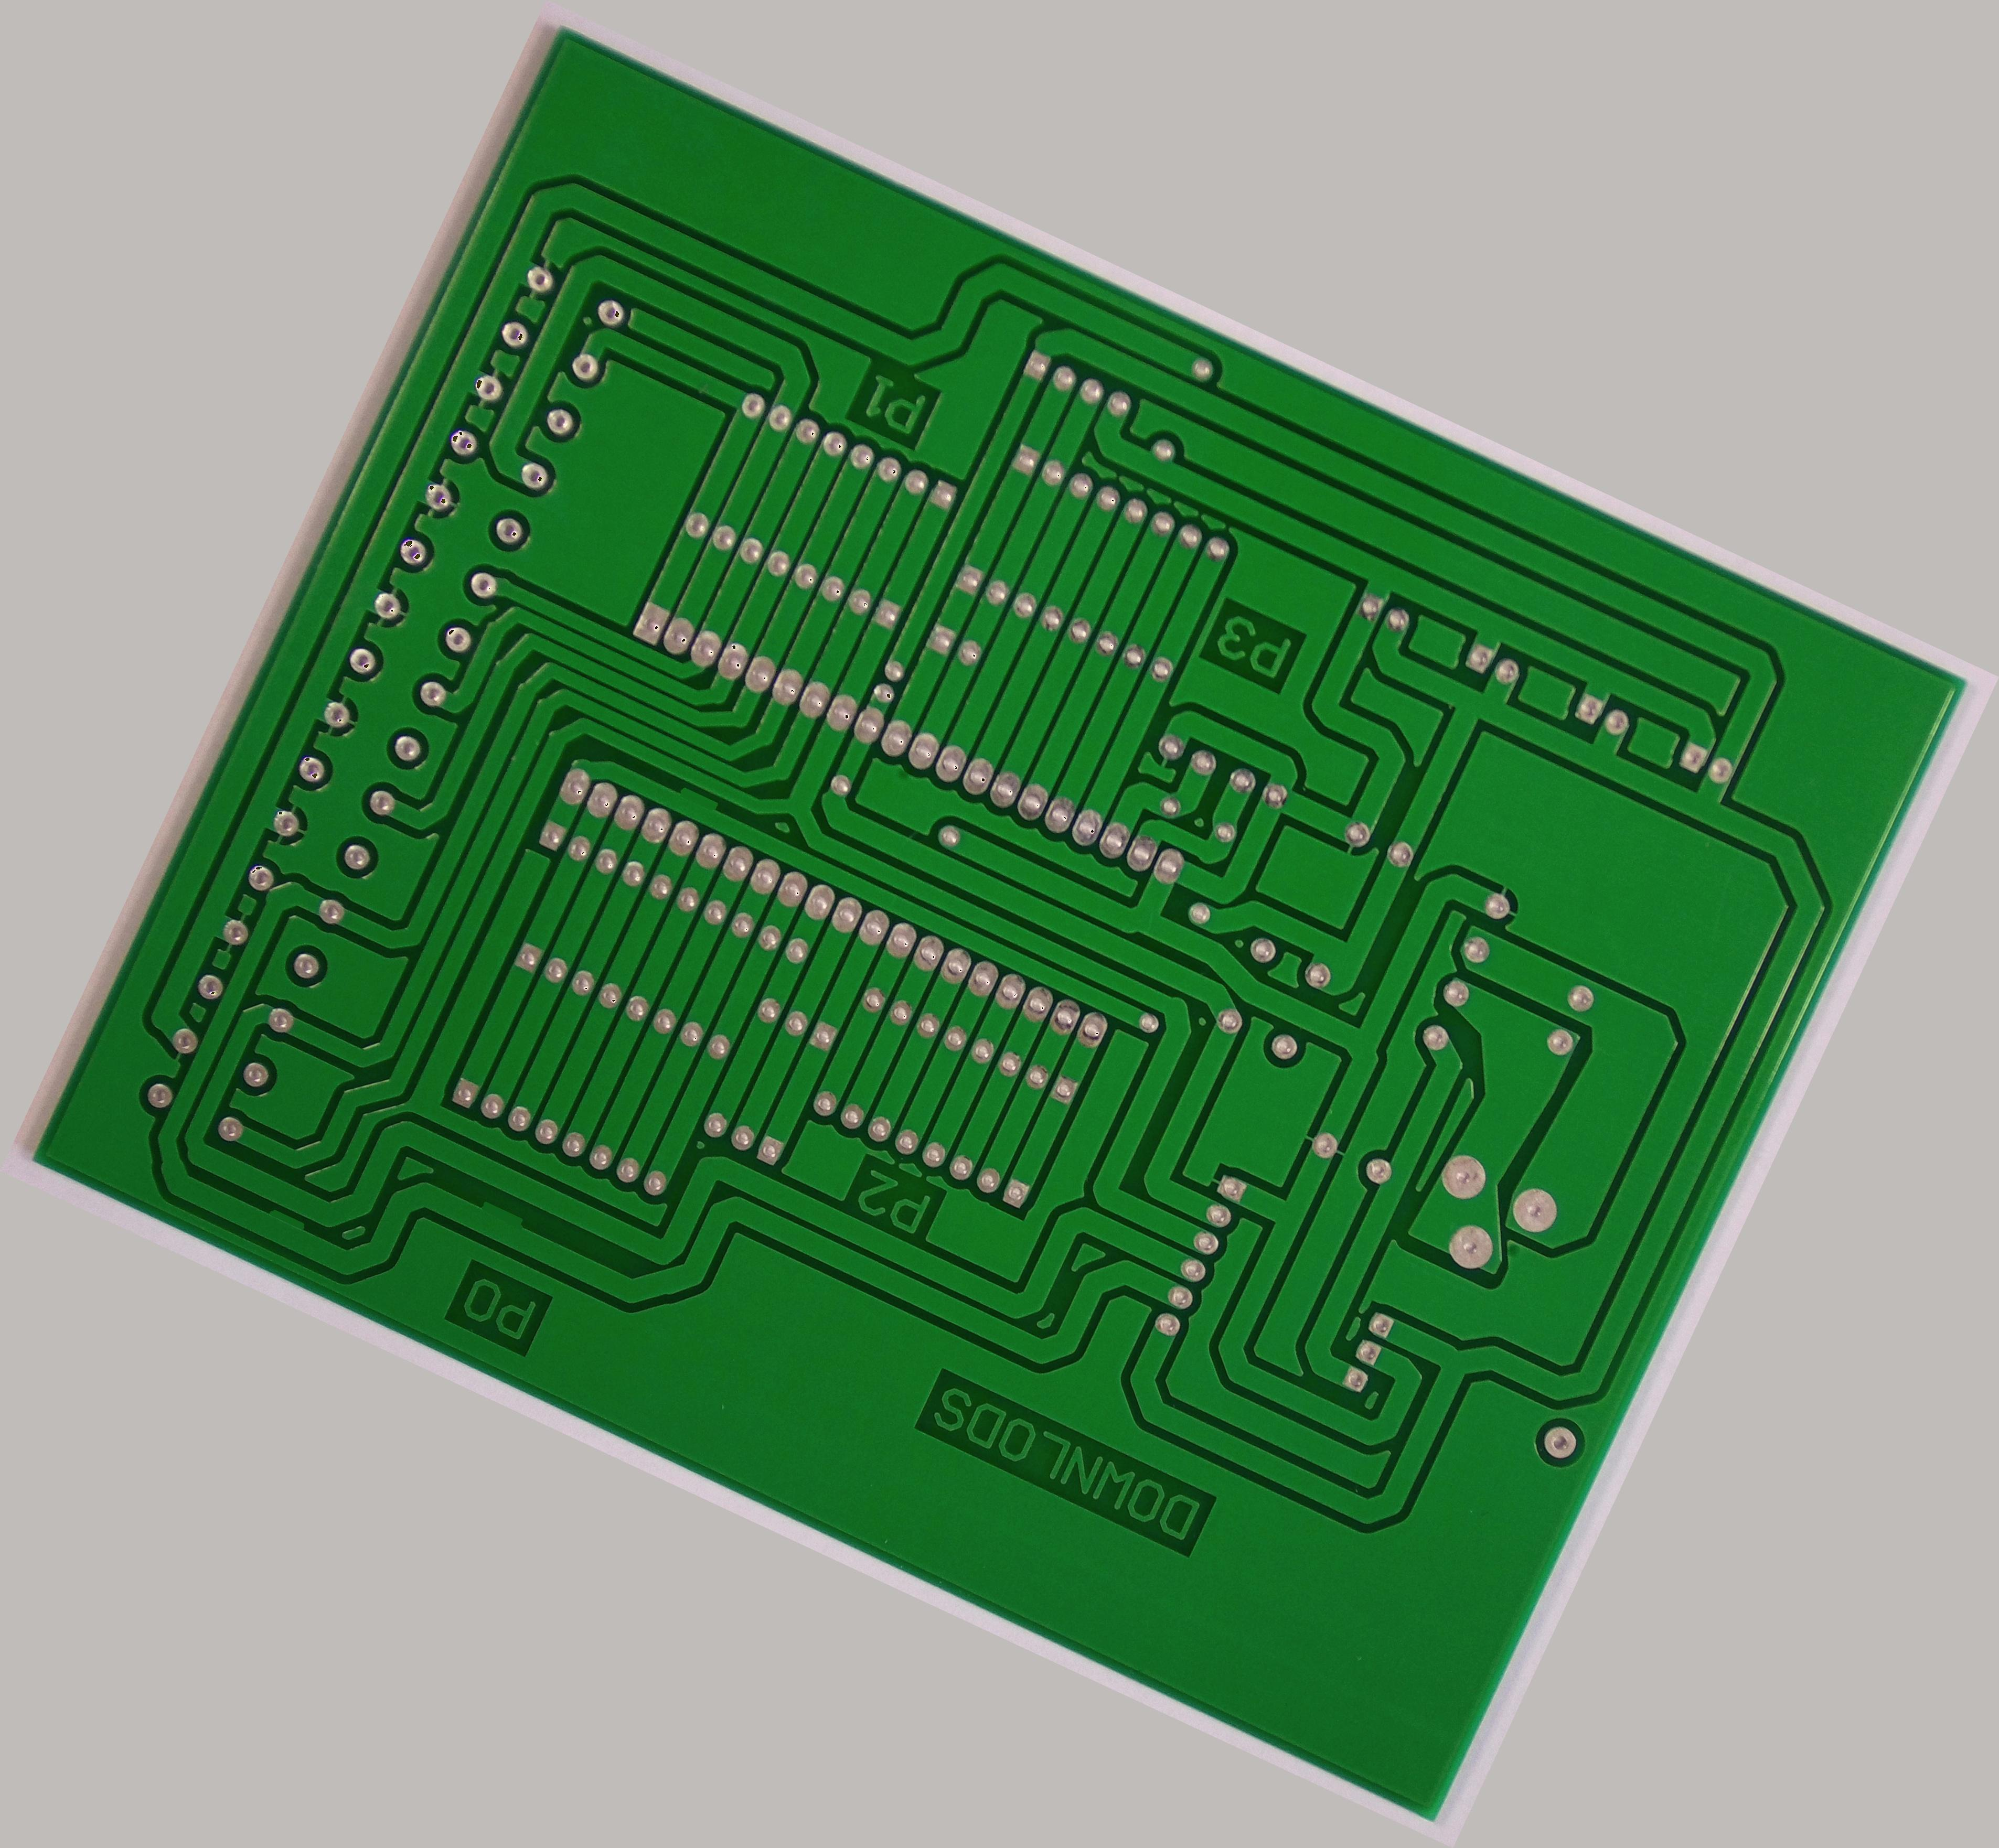spur: (463, 1187, 540, 1239), (667, 776, 728, 823), (258, 1199, 315, 1244)
